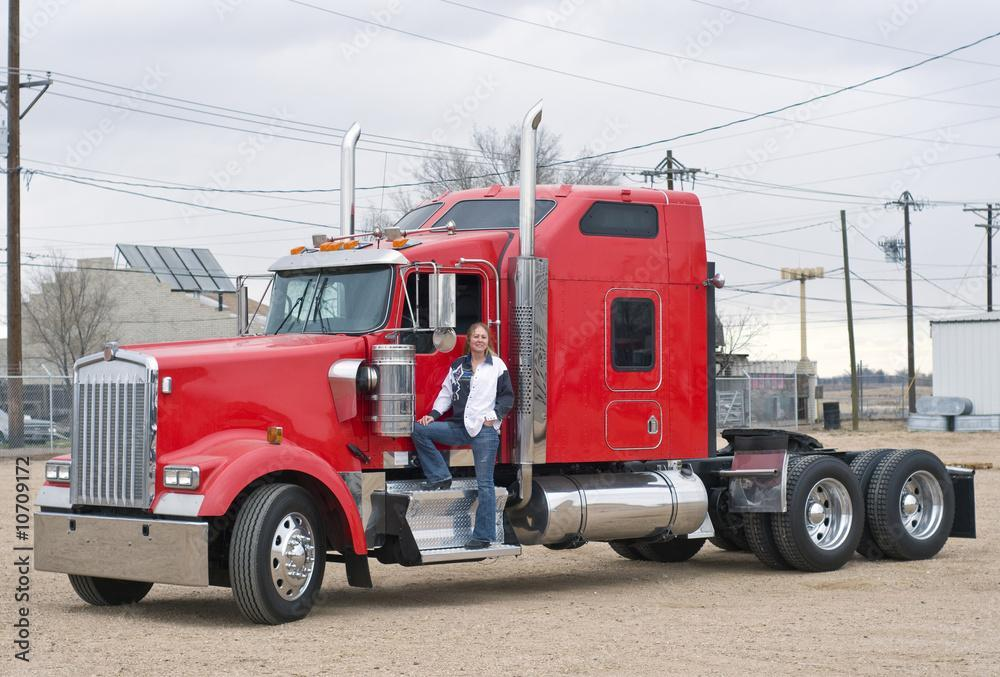truck: (38, 177, 972, 590)
